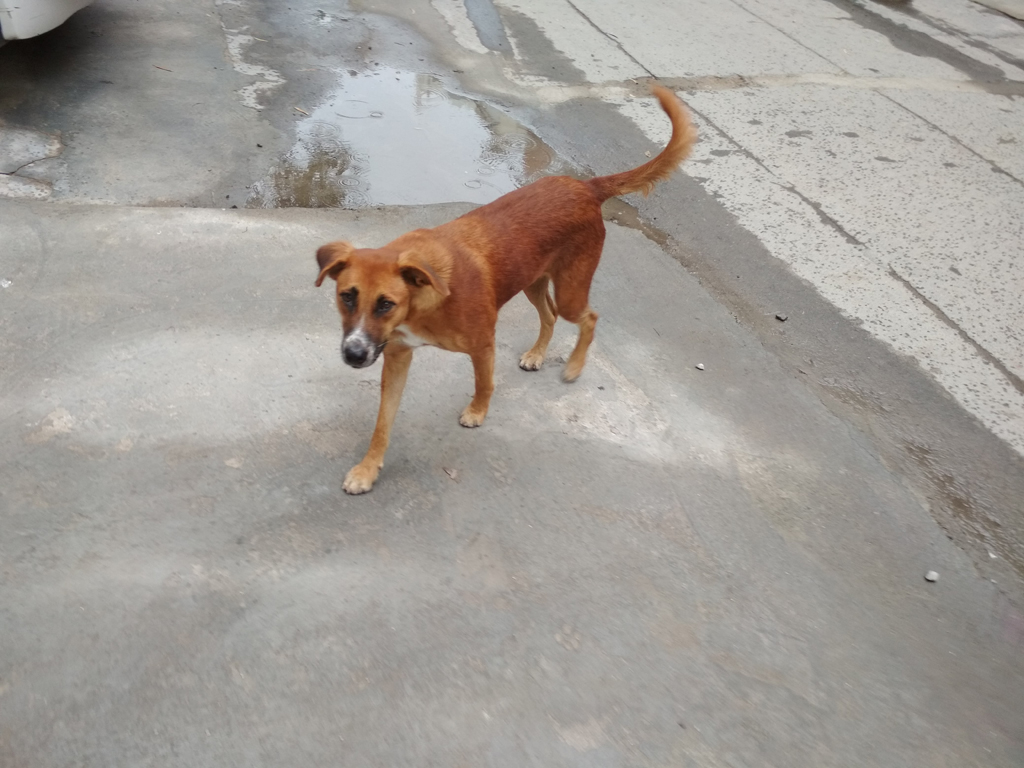dog: (311, 79, 702, 493)
